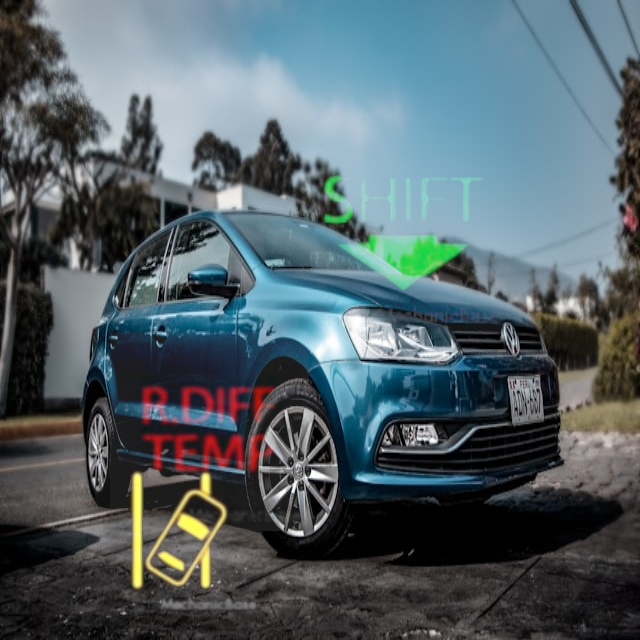symbol: (295, 121, 507, 333), (110, 332, 309, 531), (95, 450, 263, 618)
